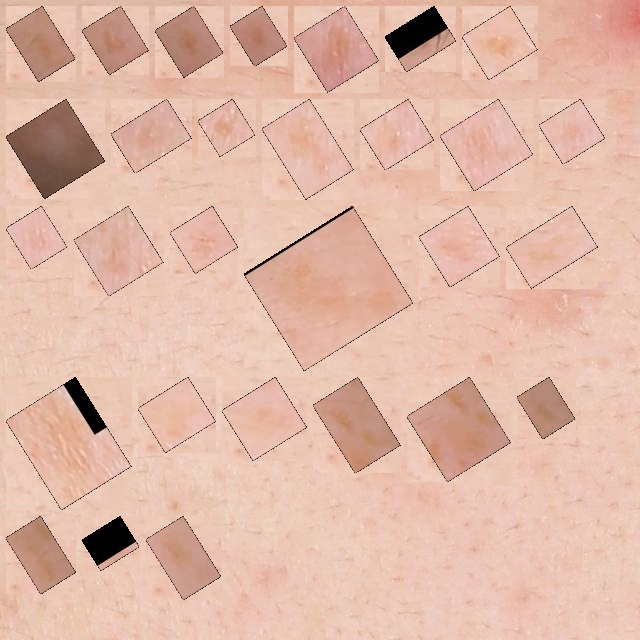hypertrophic_scar: (17, 110, 94, 188)
melasma: (255, 217, 402, 359), (17, 388, 120, 498), (418, 388, 500, 470), (273, 110, 342, 188), (451, 110, 522, 180), (324, 388, 389, 462), (85, 217, 152, 285), (517, 217, 587, 277), (305, 17, 368, 81), (233, 388, 296, 449), (430, 217, 488, 276), (157, 527, 210, 589), (122, 110, 180, 162), (149, 388, 205, 441), (473, 17, 526, 68), (17, 527, 65, 583), (371, 110, 423, 159), (17, 17, 64, 70), (166, 17, 212, 66), (396, 17, 445, 60), (93, 17, 138, 63), (181, 217, 227, 262), (550, 110, 594, 153), (17, 217, 56, 258), (528, 388, 564, 428), (241, 17, 276, 55), (209, 110, 244, 145), (93, 527, 128, 559)
